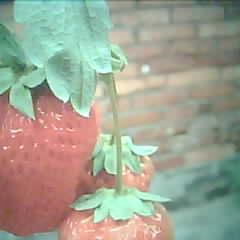straw-ripe: (1, 81, 99, 235)
